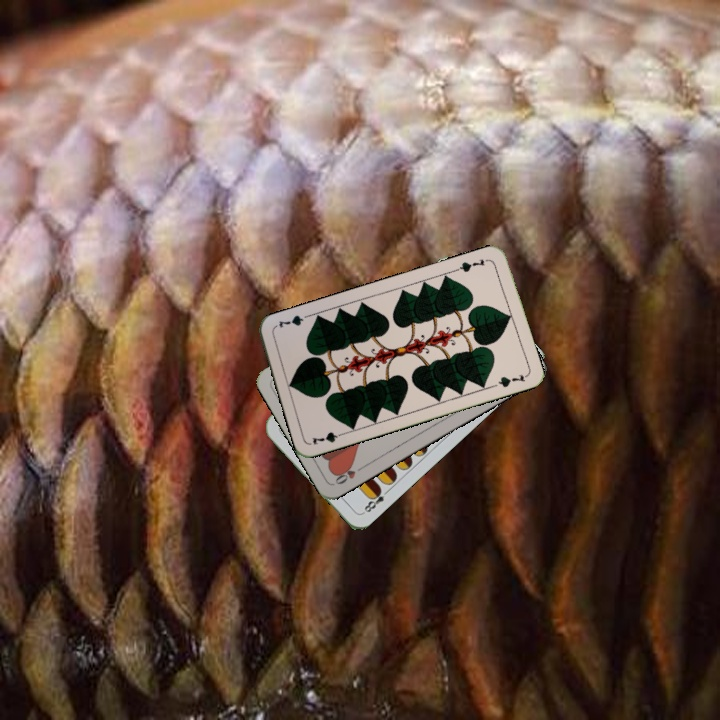E8: (358, 483, 392, 516)
G7: (308, 428, 348, 447), (452, 255, 487, 275)
HO: (331, 461, 368, 487)
